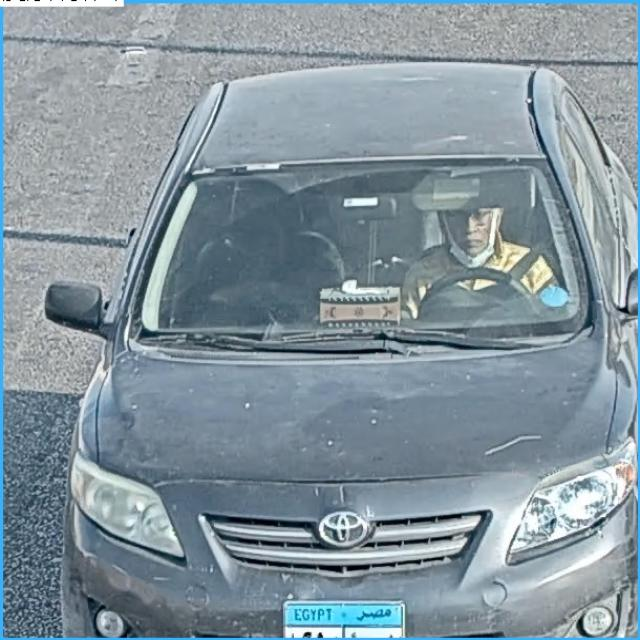windshield: (141, 163, 584, 332)
